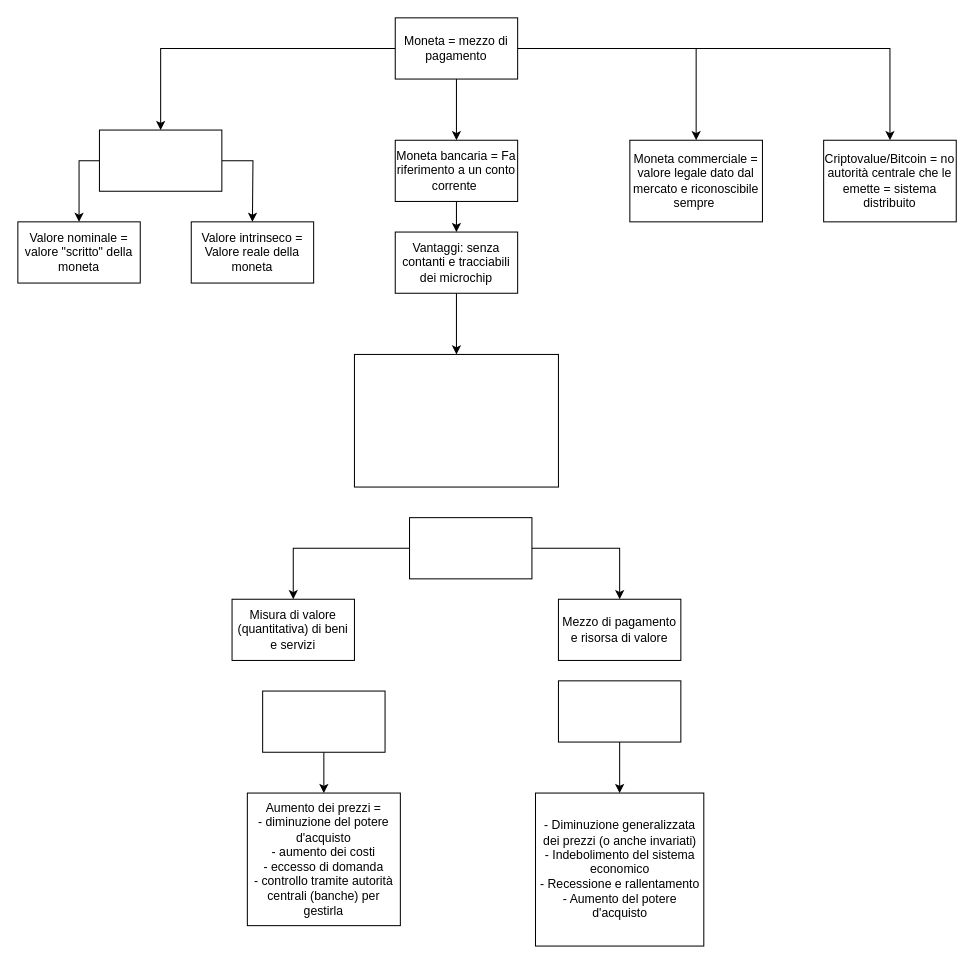
Image size: 974x964. Some labels were removed from this diagram. The shapes that lost their labels are listed below. From the top down, each one's centre as x and y in pixels, then its label:
the point at 160,160: Monete metalliche e banconote = Circuito legale di creazione
the point at 455,420: Esempi: Assegni (pagherò)/Tessere/Bancomat/Carta di credito
the point at 470,548: Funzioni monetarie
the point at 323,721: Inflazione
the point at 619,711: Deflazione
